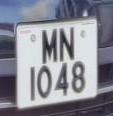0: (36, 64, 54, 104)
1: (26, 63, 38, 106)
4: (53, 60, 71, 103)
8: (70, 58, 88, 99)
M: (38, 25, 60, 68)
N: (58, 23, 77, 65)
